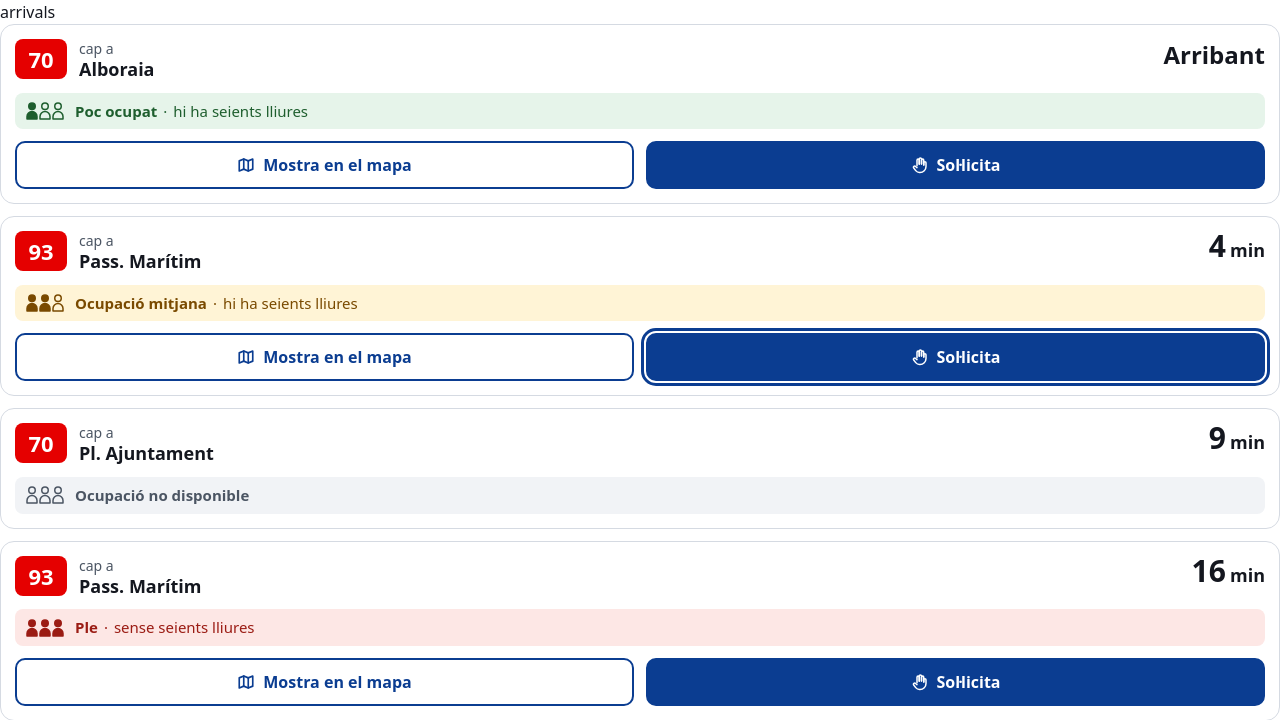
RequestDialog › [passenger_alert_ui.AC-04] titles the dialog in Valencian, with the destination marked as GTFS text
Click the button named "Sol·licita parada a la línia 93 cap a Passeig Marítim - Hospital Malva-rosa" at (956, 357), box [646,333,1265,381]
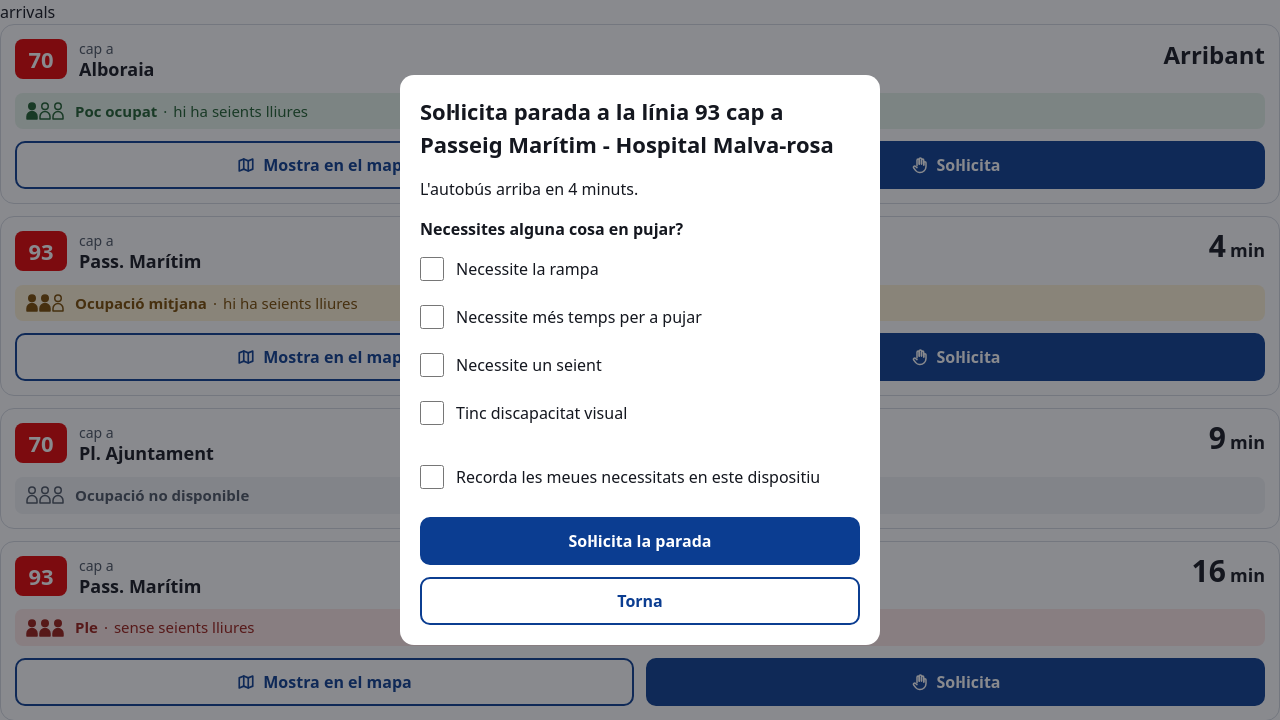
Result: the dialog shows "L'autobús arriba en 4 minuts." at [420,178,638,200]
Result: the button "Sol·licita la parada" is shown at [420,517,860,565]
Result: the button "Torna" is shown at [420,577,860,625]
